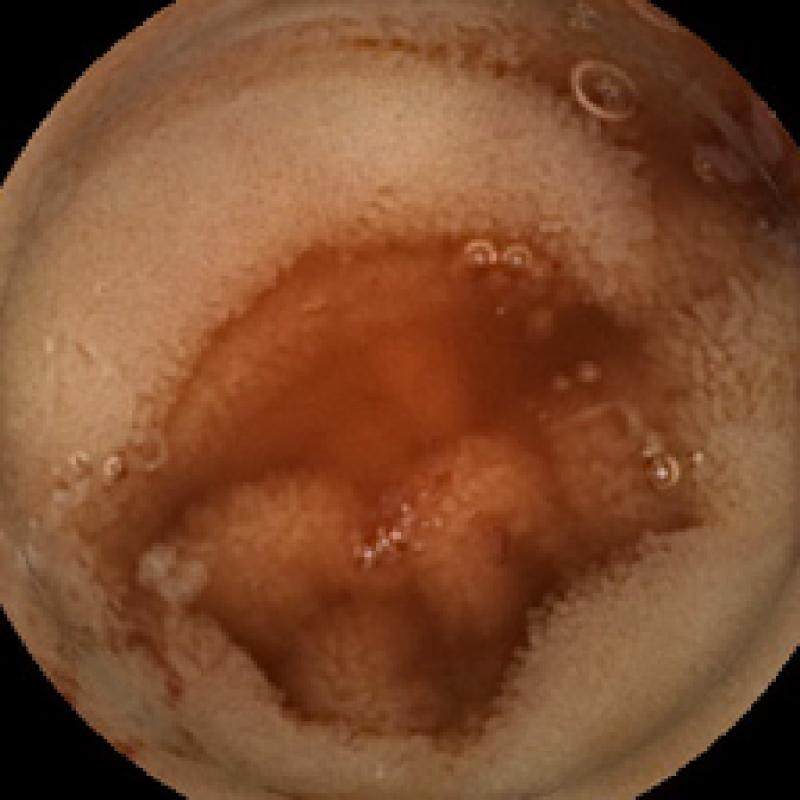bleeding: (668, 46, 800, 214)
